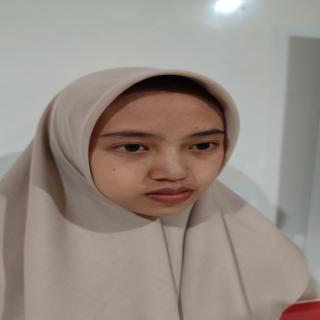Netral: (76, 81, 246, 226)
